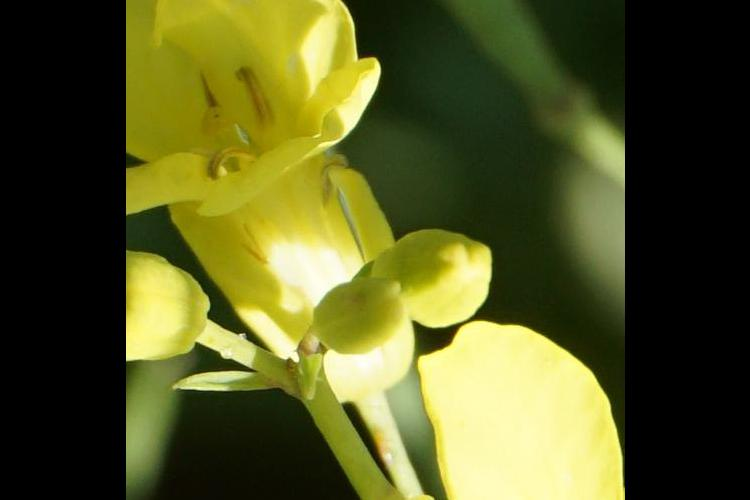bud: (363, 217, 494, 334), (297, 275, 404, 360)
yellow: (127, 1, 368, 286), (307, 343, 623, 500)
